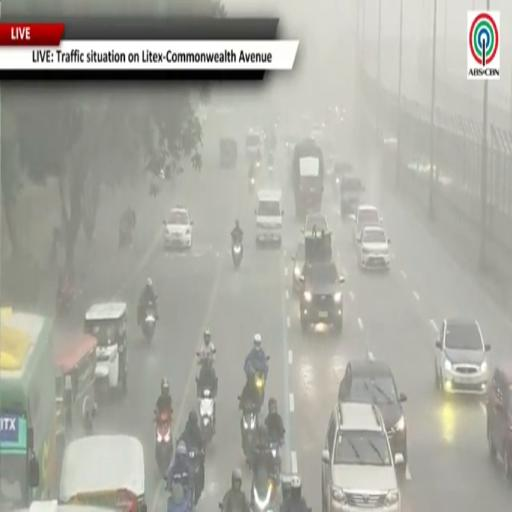bus: (0, 309, 57, 509)
car: (322, 403, 401, 511), (339, 358, 407, 471), (435, 318, 490, 394), (300, 261, 344, 333), (486, 363, 511, 481), (255, 189, 283, 246), (357, 227, 390, 270), (335, 175, 365, 217), (164, 207, 193, 248), (349, 205, 381, 242), (292, 242, 305, 293), (302, 213, 329, 236), (246, 128, 263, 158), (311, 123, 324, 142)
jeepney: (59, 436, 146, 511), (54, 331, 97, 440), (84, 302, 128, 395), (18, 501, 116, 511)
motorcycle: (155, 411, 173, 476), (241, 403, 258, 461), (251, 470, 274, 511), (168, 475, 193, 511), (189, 447, 204, 506), (199, 389, 215, 443), (142, 301, 157, 342), (57, 290, 74, 316), (270, 439, 281, 475), (255, 372, 265, 404), (232, 240, 242, 269), (119, 227, 132, 248), (249, 176, 255, 190), (268, 163, 273, 174)
truck: (292, 138, 324, 219)
